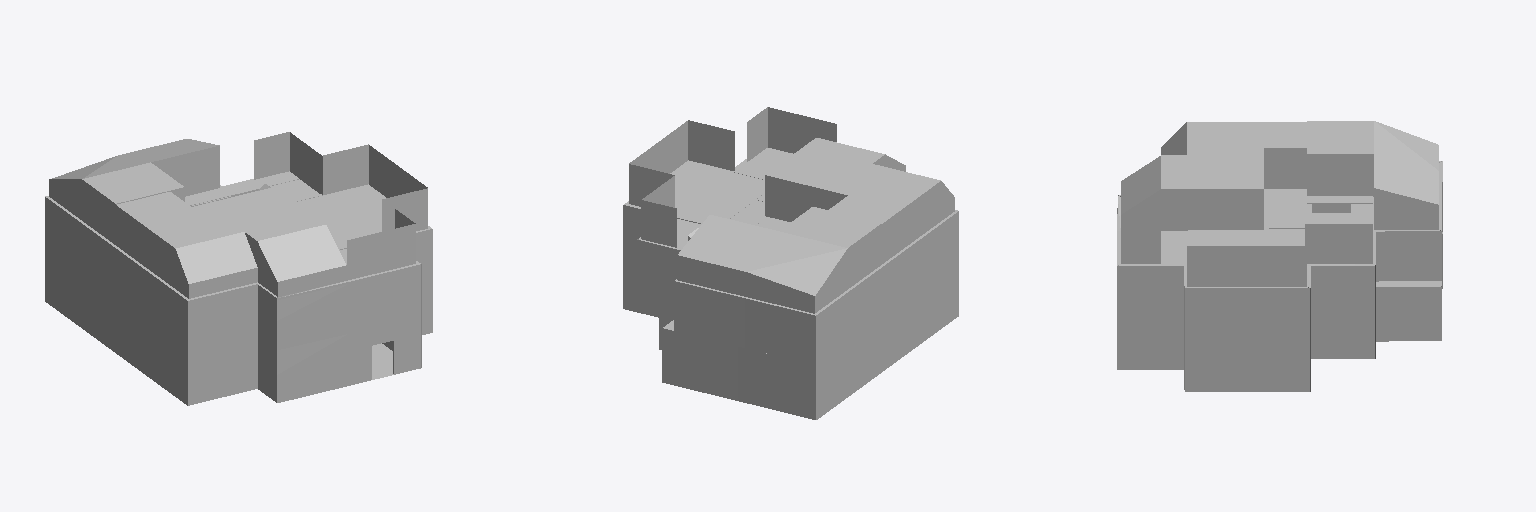
File: house.obj
The picture shows the model from 3 angles: view 1: azimuth 30°, elevation 25°; view 2: azimuth 150°, elevation 25°; view 3: azimuth 270°, elevation 25°; orthographic projection.
Visible parts, largest first — view 1: house_attic, House_Floor2, House_Floor1, House_Roof1; view 2: house_attic, House_Floor2, House_Floor1, House_Roof1; view 3: house_attic, House_Floor2, House_Floor1, House_Roof1.
Boxes of the visible parts, x1=… form: house_attic: x1=49, y1=132, x2=427, y2=298; House_Floor2: x1=45, y1=171, x2=432, y2=351; House_Floor1: x1=45, y1=249, x2=432, y2=405; House_Roof1: x1=45, y1=248, x2=432, y2=352; house_attic: x1=629, y1=107, x2=954, y2=313; House_Floor2: x1=623, y1=150, x2=958, y2=366; House_Floor1: x1=623, y1=257, x2=958, y2=419; House_Roof1: x1=623, y1=255, x2=957, y2=367; house_attic: x1=1121, y1=121, x2=1438, y2=286; House_Floor2: x1=1117, y1=161, x2=1442, y2=337; House_Floor1: x1=1117, y1=236, x2=1442, y2=391; House_Roof1: x1=1117, y1=212, x2=1442, y2=339.
Bounding box in the file's own units: 22.57 × 12.19 × 24.5.